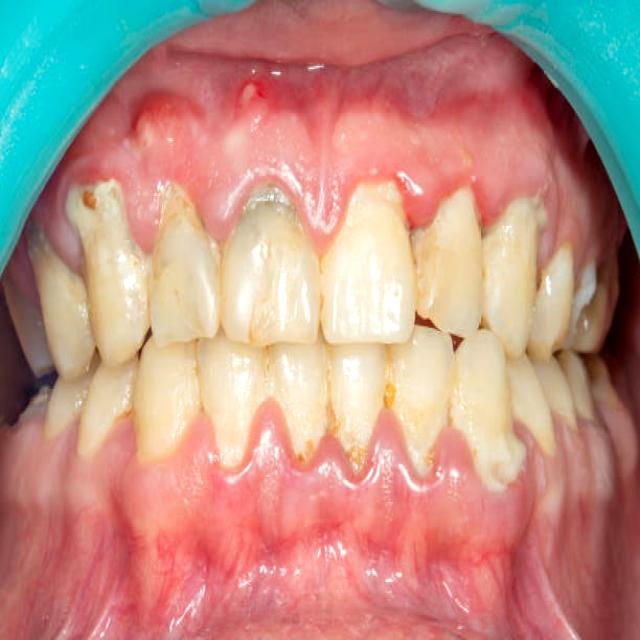gingivitis: (0, 403, 639, 638), (30, 63, 625, 270)
